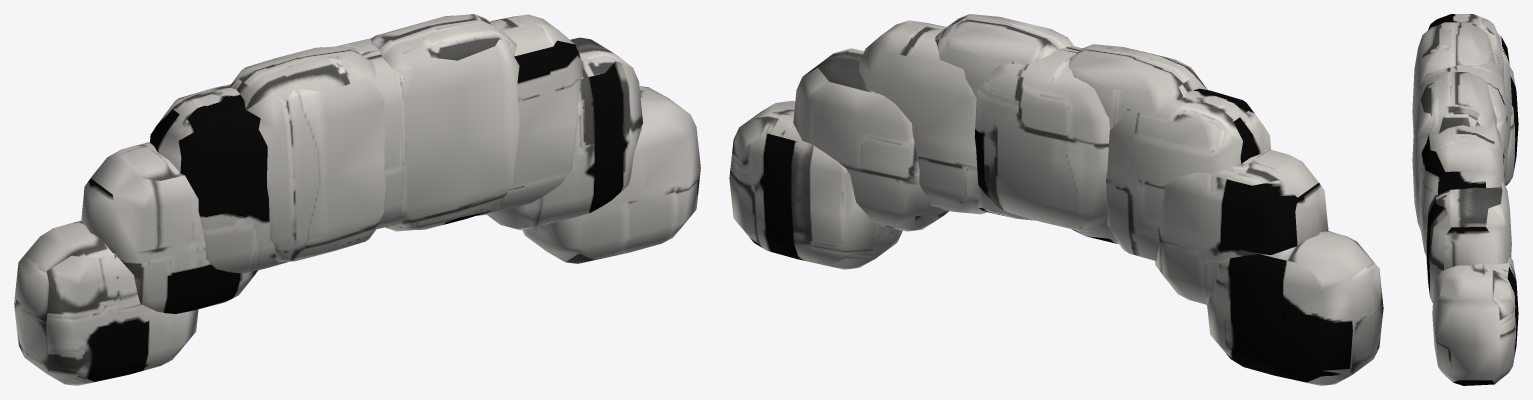
File: Tano_Bigote.fbx
3 views of the same model, side by side, from view 1: azimuth 30°, elevation 25°; view 2: azimuth 150°, elevation 25°; view 3: azimuth 270°, elevation 25° (orthographic). The views are drawn at different scales.
Parts seen in each view (by area): view 1: Tano_Bigote; view 2: Tano_Bigote; view 3: Tano_Bigote.
Part boxes in pixels (x1=…): Tano_Bigote: x1=14, y1=14, x2=700, y2=385; Tano_Bigote: x1=729, y1=14, x2=1383, y2=385; Tano_Bigote: x1=1412, y1=14, x2=1518, y2=385.
Bounding box in the file's own units: 1.29 × 0.5107 × 0.2286.
